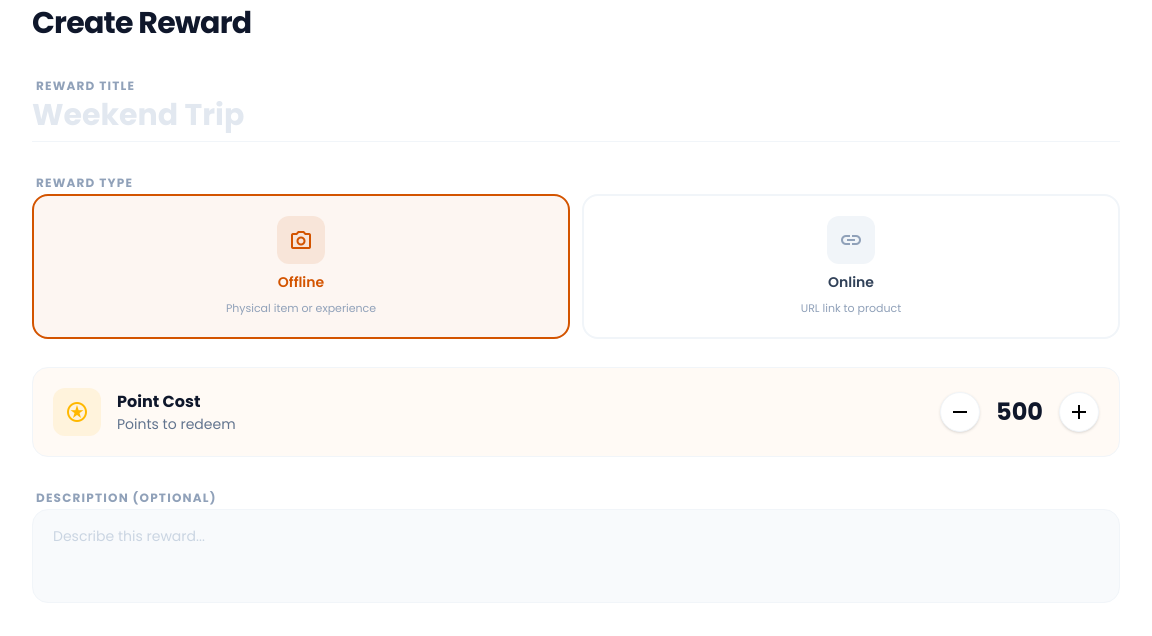
Test: CreateReward › submit disabled for online without URL
Type "Link" into the field with placeholder "Weekend Trip" at coordinates (576, 115), box [32,97,1120,133]
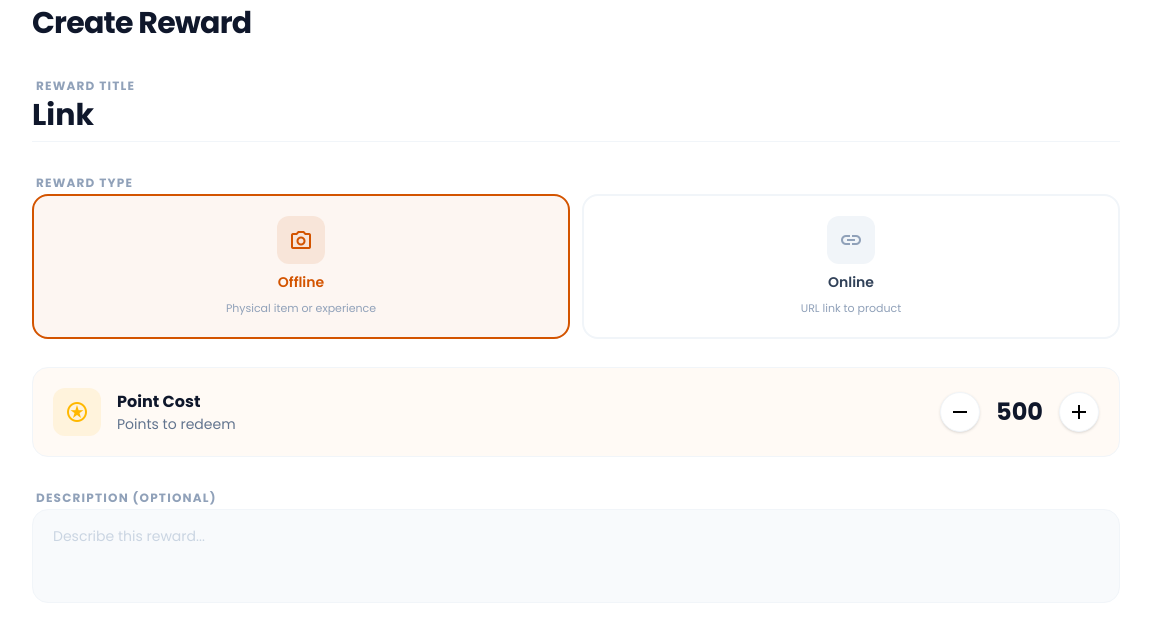
Click the text "Online" at coordinates (851, 282), box [828,272,874,292]
(page scrolled)
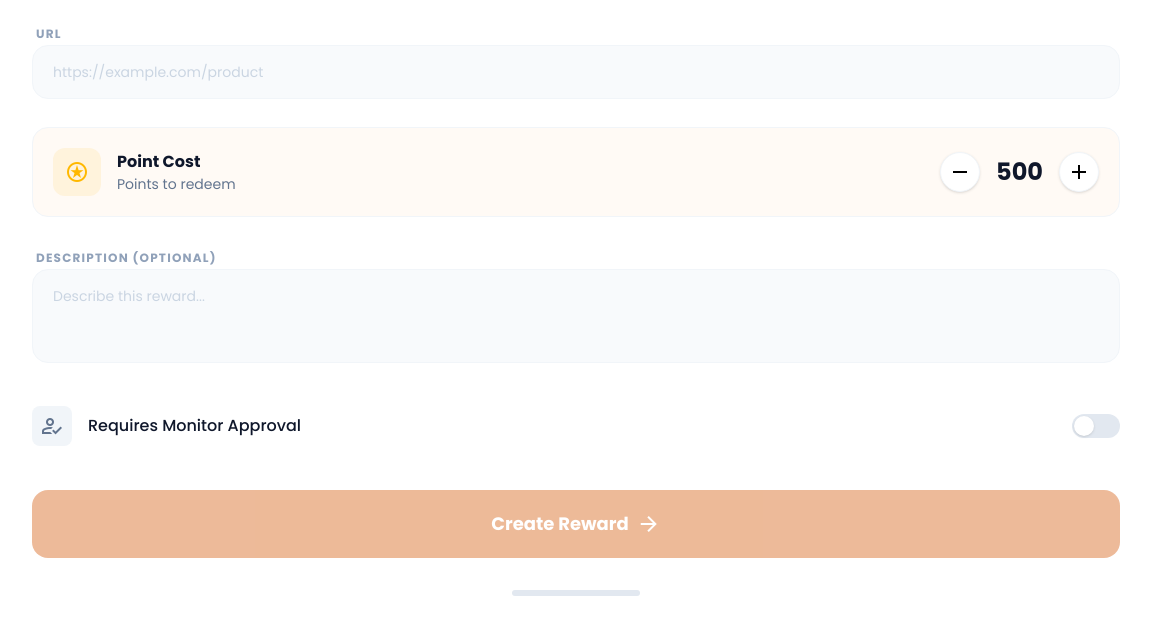
Expected: the button "Create Reward" is disabled, [32,490,1120,558]
